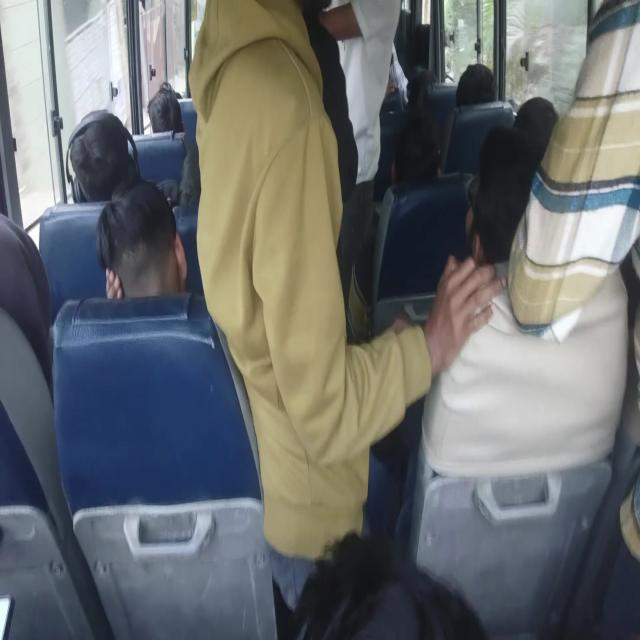person: (187, 0, 374, 350), (524, 0, 640, 353), (260, 524, 522, 640), (328, 0, 404, 174), (463, 125, 537, 282), (0, 210, 54, 412), (104, 203, 187, 307), (142, 19, 194, 173), (56, 109, 130, 192), (401, 108, 439, 230), (508, 95, 562, 165), (452, 64, 499, 112)
